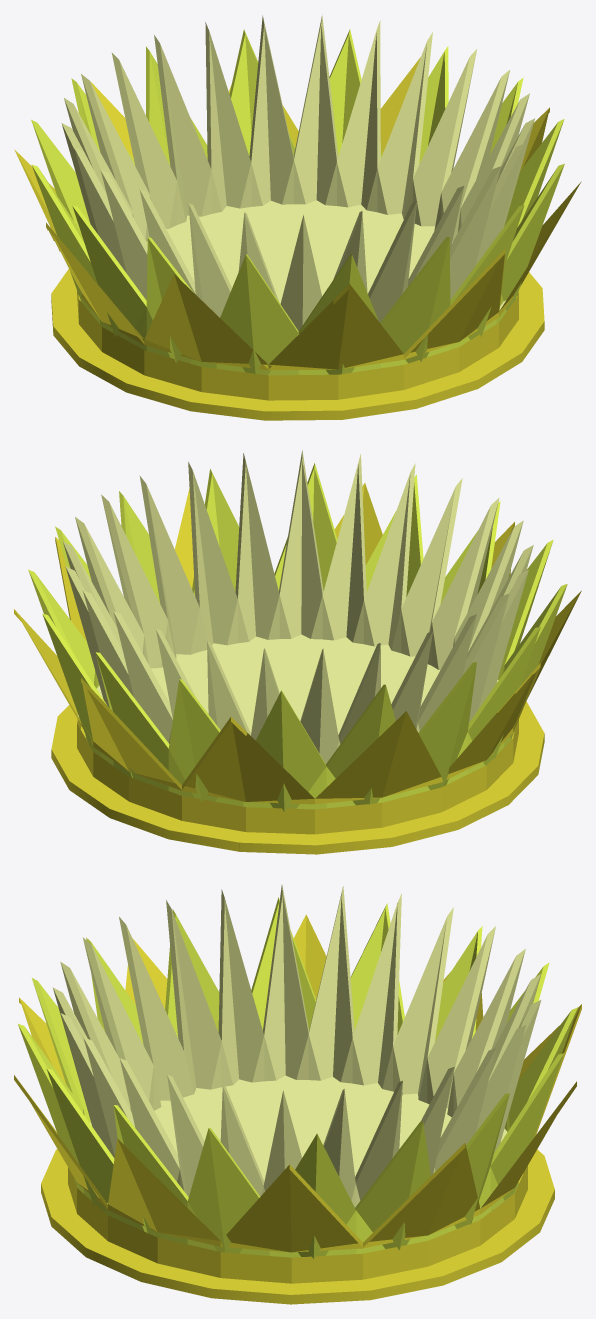
File: portal_abrir_000044.obj
3 views of the same model, one above another, from view 1: azimuth 30°, elevation 25°; view 2: azimuth 150°, elevation 25°; view 3: azimuth 270°, elevation 25° (orthographic). The views are drawn at different scales.
Visible parts, largest first — view 1: Cylinder.001, pCylinder1, Cylinder; view 2: Cylinder.001, pCylinder1, Cylinder; view 3: Cylinder.001, pCylinder1, Cylinder.
Part boxes in pixels (x1=…): Cylinder.001: x1=61, y1=15, x2=534, y2=330; pCylinder1: x1=14, y1=57, x2=581, y2=420; Cylinder: x1=31, y1=29, x2=564, y2=375; Cylinder.001: x1=63, y1=450, x2=533, y2=763; pCylinder1: x1=14, y1=483, x2=581, y2=854; Cylinder: x1=28, y1=463, x2=567, y2=811; Cylinder.001: x1=53, y1=884, x2=541, y2=1207; pCylinder1: x1=14, y1=914, x2=581, y2=1304; Cylinder: x1=18, y1=897, x2=577, y2=1259.
Size of the model in its own units: 7.26 by 2.83 by 6.97.
4 materials, 4 textured.
